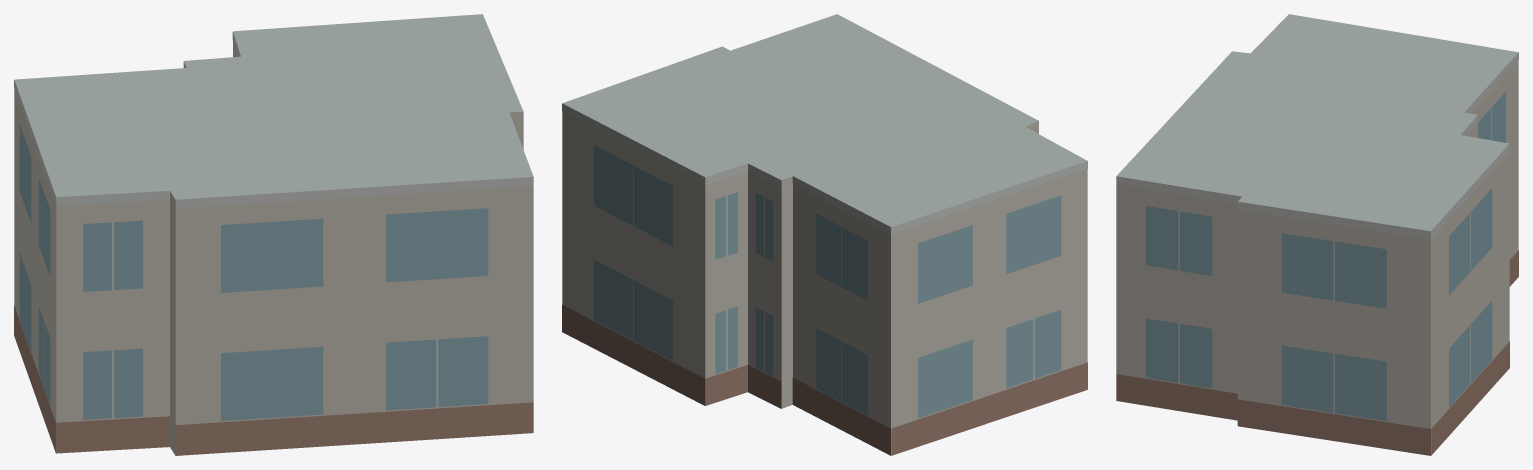
File: survey-upis-32939856.glb
3 renders of one model, left to right at view 1: azimuth 30°, elevation 25°; view 2: azimuth 150°, elevation 25°; view 3: azimuth 270°, elevation 25°, orthographic. The views are drawn at different scales.
Parts seen in each view (by area): view 1: survey-upis-32939856.tmp; view 2: survey-upis-32939856.tmp; view 3: survey-upis-32939856.tmp.
Part boxes in pixels (<box>): survey-upis-32939856.tmp: <box>14,14,533,455</box>; survey-upis-32939856.tmp: <box>562,14,1087,455</box>; survey-upis-32939856.tmp: <box>1116,14,1518,455</box>.
Size of the model in its own units: 14.53 by 7 by 11.38.
